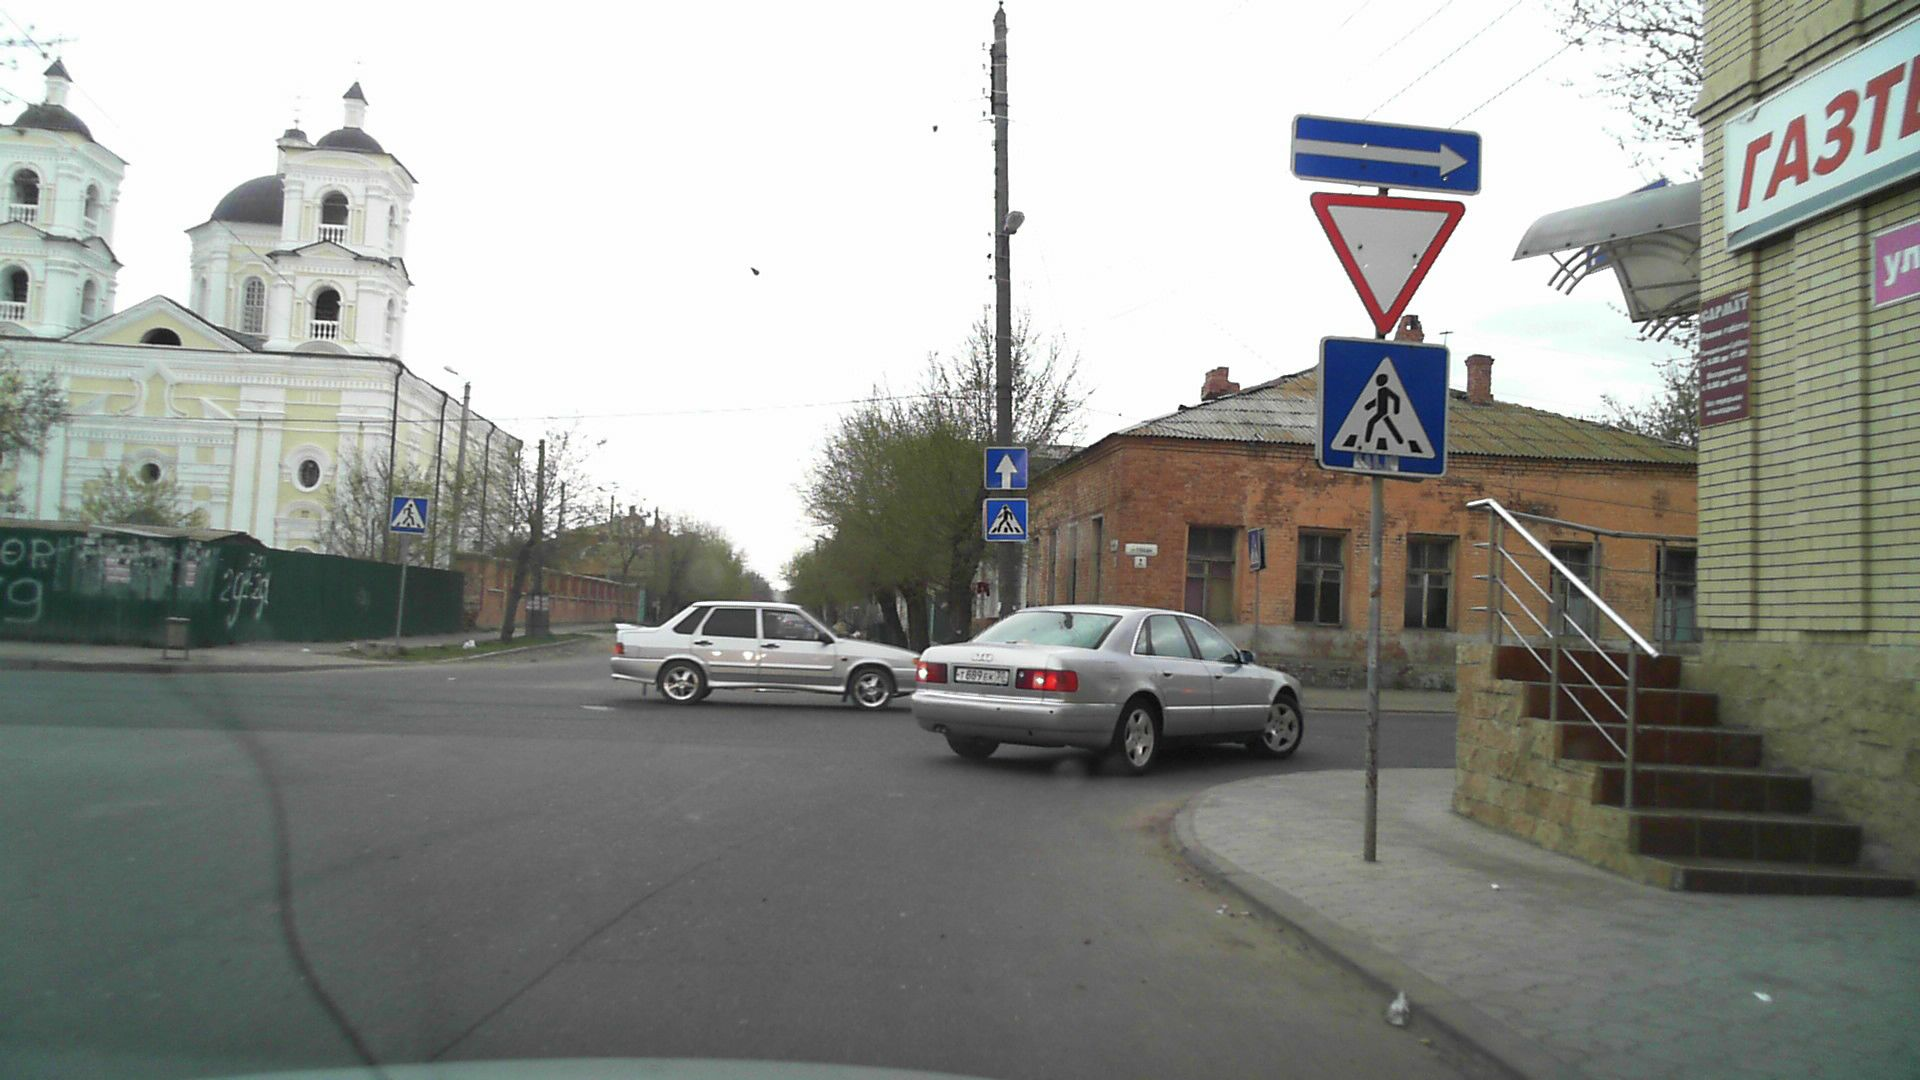One-Way Traffic: (1291, 113, 1481, 194)
Pedestrian Crossing: (1323, 338, 1448, 476), (986, 498, 1027, 541), (392, 496, 427, 533)
